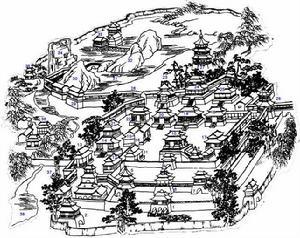buildings: (88, 91, 155, 194)
